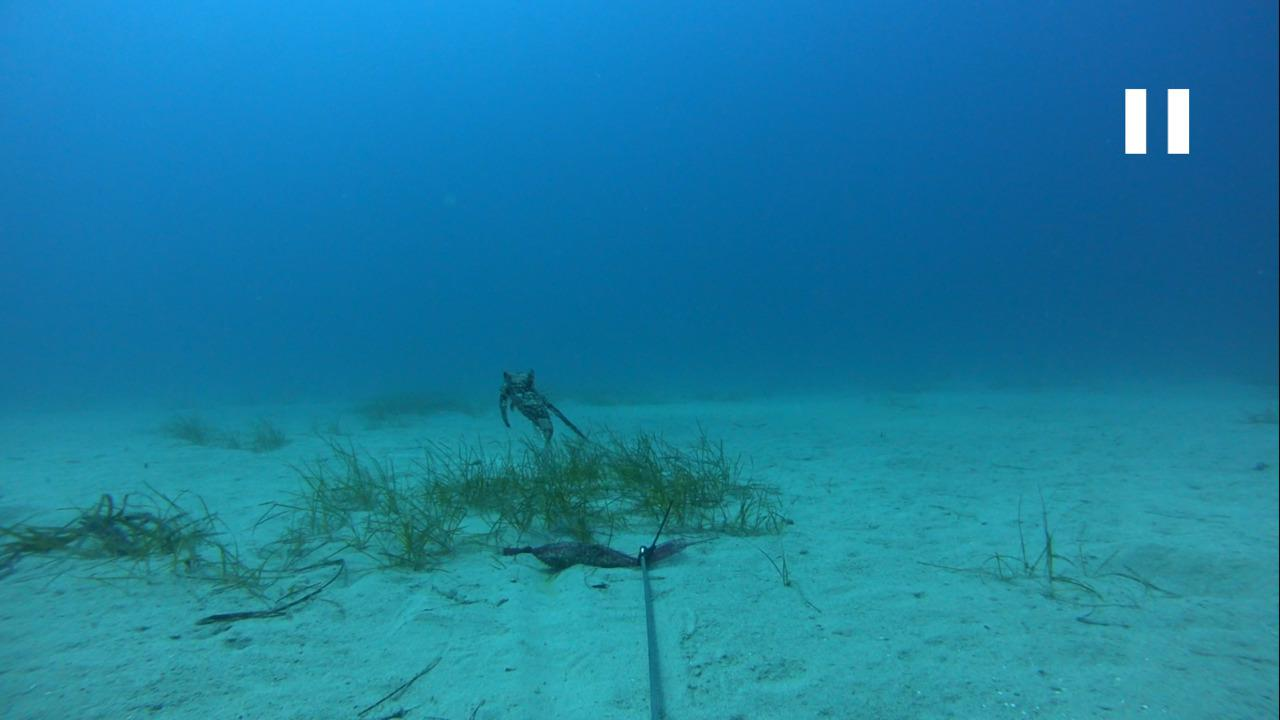dactylopterus: (481, 361, 592, 456)
